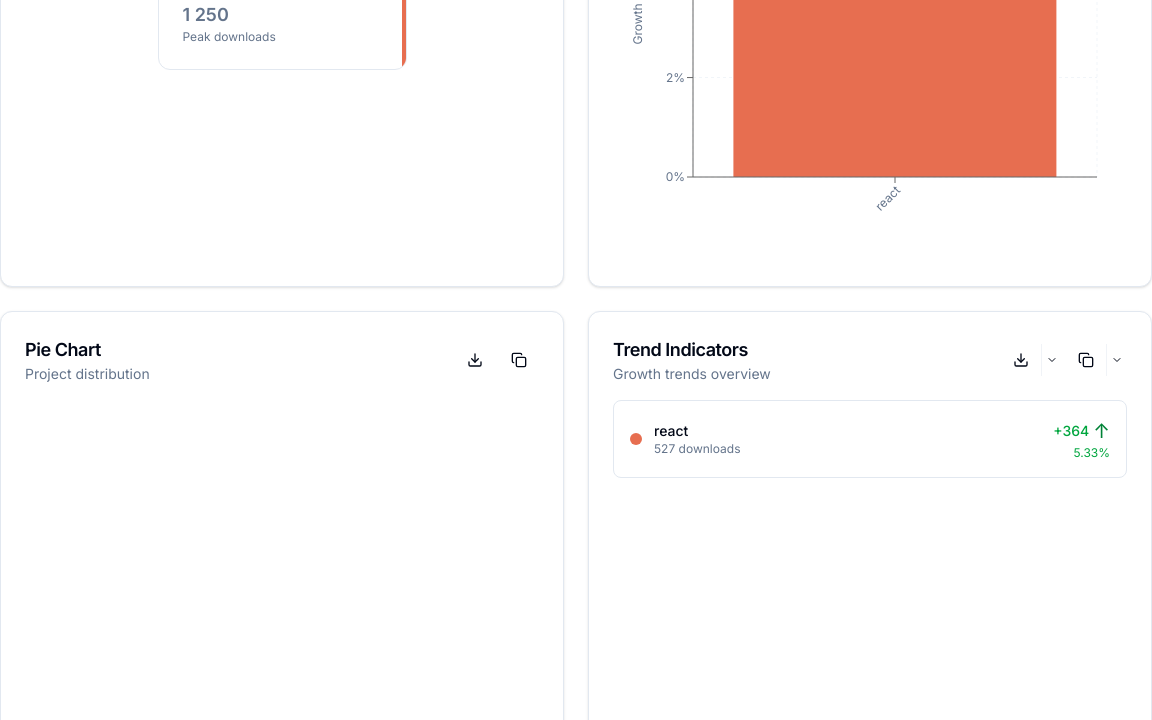
Test: WidgetsSection › lists only projects with data in the per-project dropdown
(page scrolled)
Click the button named "Download a single project card" at (1052, 360), box left=1042, top=344, right=1062, bottom=376
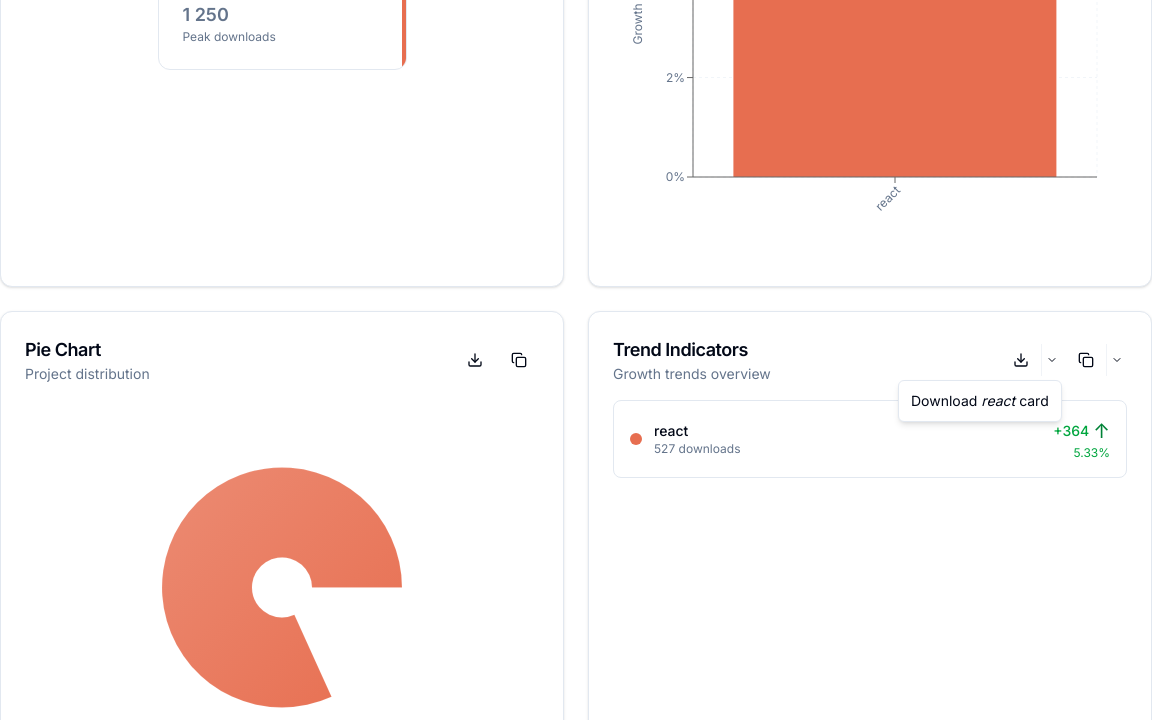
Expected: the number of menu items is 1, left=911, top=392, right=1049, bottom=409
